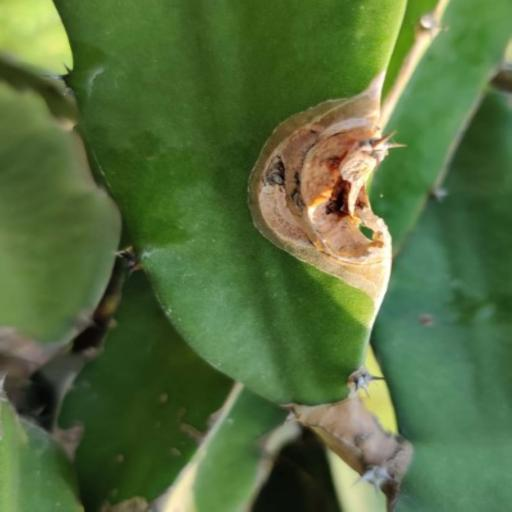stemcanker: (408, 316, 462, 360), (96, 485, 150, 510), (155, 436, 191, 472), (78, 374, 114, 408), (148, 372, 180, 410), (177, 420, 215, 444), (114, 439, 142, 468), (375, 180, 395, 216)
